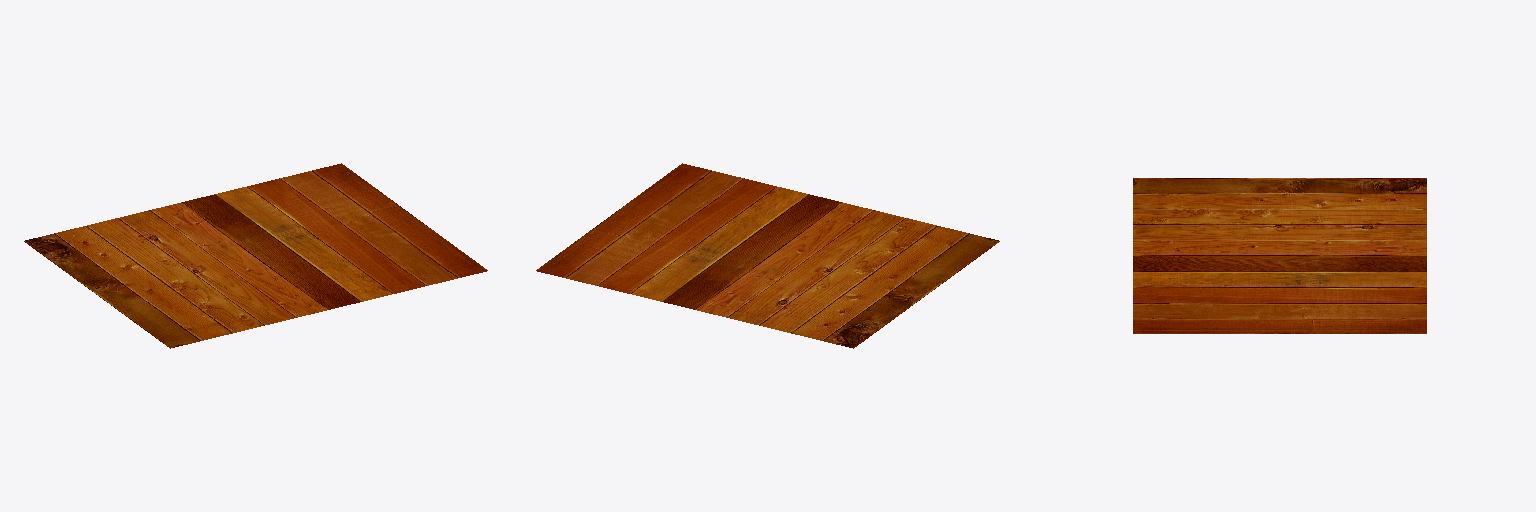
The picture shows the model from 3 angles: view 1: azimuth 30°, elevation 25°; view 2: azimuth 150°, elevation 25°; view 3: azimuth 270°, elevation 25°; orthographic projection.
Visible parts, largest first — view 1: Plane02; view 2: Plane02; view 3: Plane02.
Part boxes in pixels (x1,y1,x2,y2): Plane02: (24,163,487,348); Plane02: (536,163,999,348); Plane02: (1133,178,1426,333).
Size of the model in its own units: 1000 by 0 by 800.
Materials: 1 (1 with a texture image).